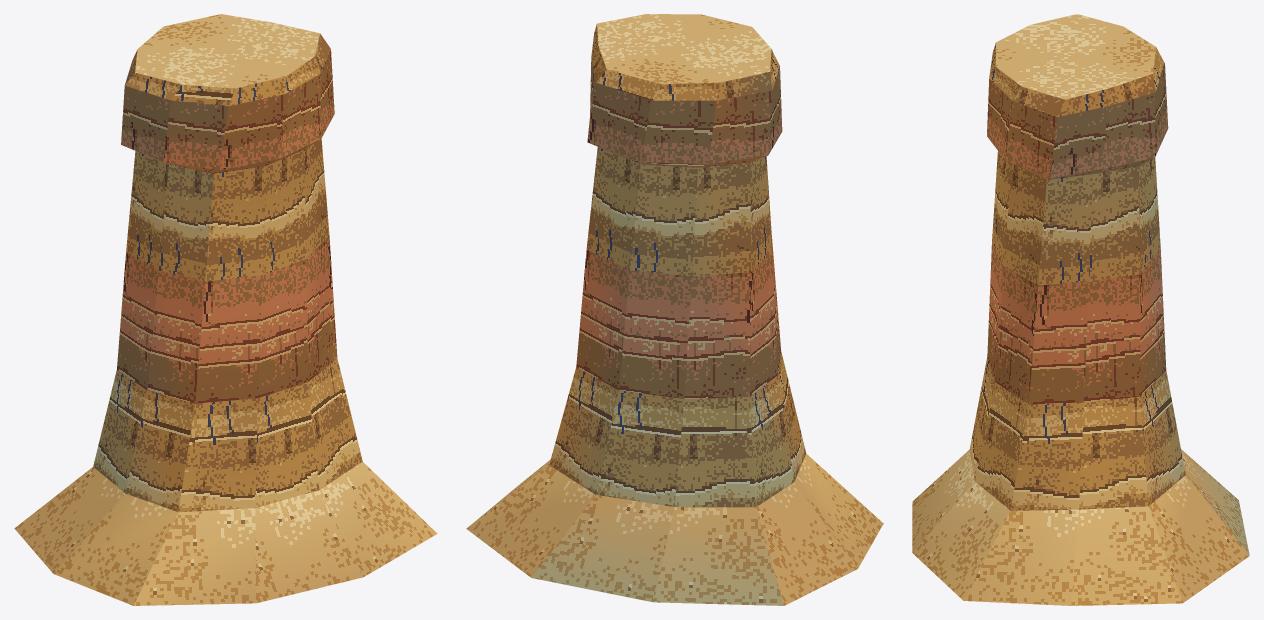
The model's file is wland.butte.glb.
The picture shows the model from 3 angles, left to right: view 1: azimuth 30°, elevation 25°; view 2: azimuth 150°, elevation 25°; view 3: azimuth 270°, elevation 25°; orthographic projection.
Visible parts, largest first — view 1: kit_butte; view 2: kit_butte; view 3: kit_butte.
Part boxes in pixels (x1,y1,x2,y2): kit_butte: (14, 14, 437, 605); kit_butte: (466, 14, 883, 605); kit_butte: (912, 14, 1249, 605).
Bounding box in the file's own units: 10.41 × 14 × 9.12.
Materials: 4 (4 with a texture image).
